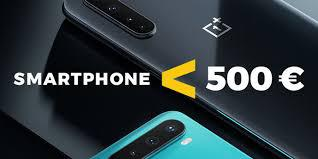Smartphone: (67, 0, 312, 147), (54, 115, 254, 159)
